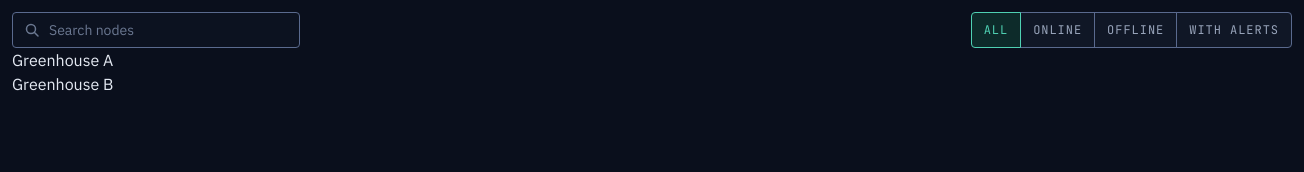
Test: FleetFilters › narrows the visible nodes to offline only once the Offline chip is selected
The width and height of the screenshot is (1304, 172).
Expected: the list item "Greenhouse A" is shown, left=12, top=50, right=113, bottom=70
Expected: the list item "Greenhouse B" is shown, left=12, top=74, right=114, bottom=94
Click the button "Offline". click: point(1136, 30)
box: left=1094, top=12, right=1177, bottom=48
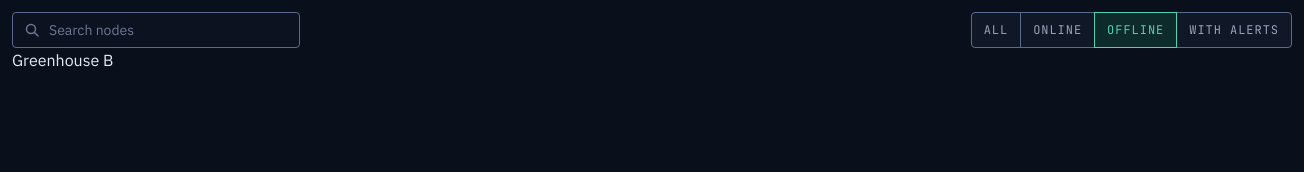
Expected: the list item "Greenhouse B" is shown, left=12, top=50, right=114, bottom=70
Expected: the list item "Greenhouse A" is gone
